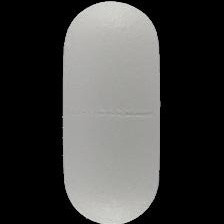42291-662: (0, 0, 224, 224)
